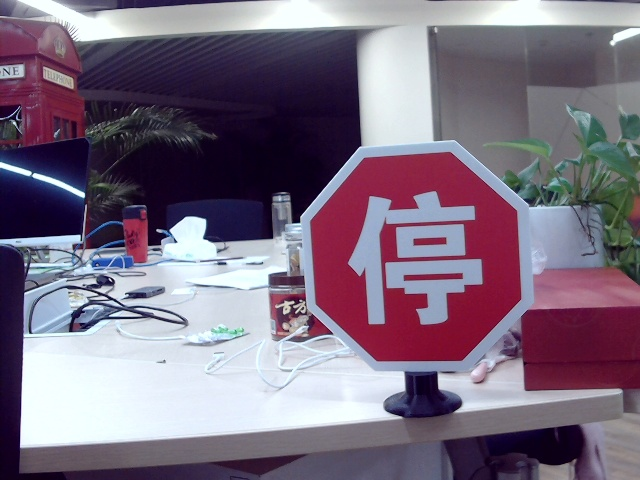stop: (344, 193, 490, 326)
